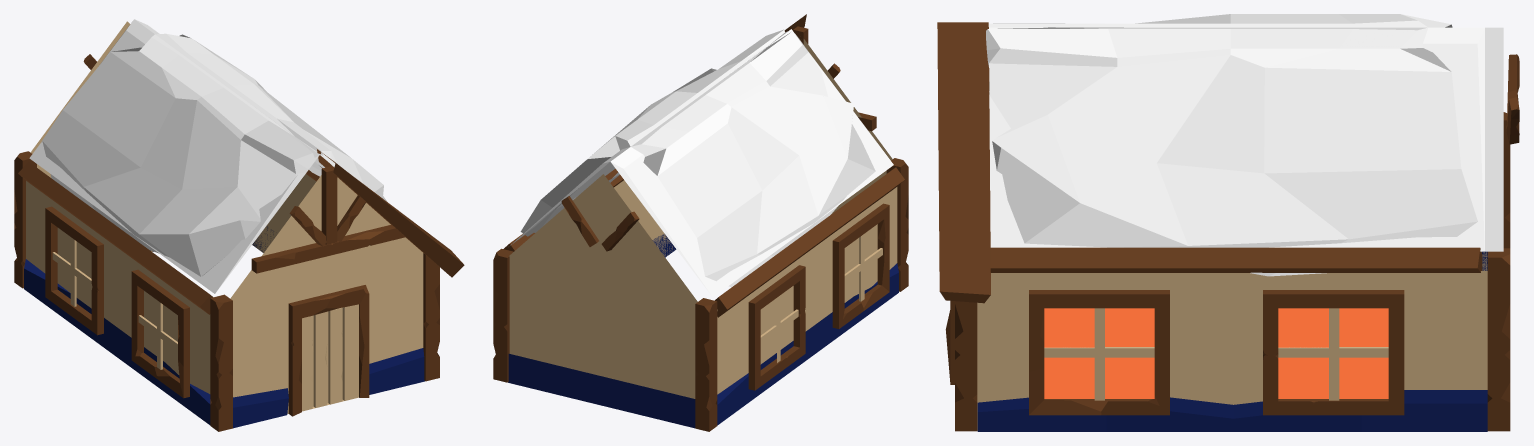
Rendered from House.glb.
3 renders of one model, left to right at view 1: azimuth 30°, elevation 25°; view 2: azimuth 150°, elevation 25°; view 3: azimuth 270°, elevation 25°, orthographic. The views are drawn at different scales.
Visible parts, largest first — view 1: Plane.013, Plane, Plane.012, Plane.022, Plane.006, Plane.019, Plane.010, Plane.005, Plane.002, Plane.001, Plane.004, Plane.024 (+2 smaller); view 2: Plane.013, Plane, Plane.012, Plane.022, Plane.019, Plane.010, Plane.024, Plane.018, Plane.002; view 3: Plane.013, Plane, Plane.008, Plane.007, Plane.001, Plane.012, Plane.010, Plane.019, Plane.011, Plane.009, Plane.004, Plane.018 (+1 smaller).
Part boxes in pixels (x1,y1,x2,y2): Plane.013: (29,19,387,293); Plane: (26,21,423,413); Plane.012: (24,226,424,428); Plane.022: (45,206,189,398); Plane.006: (302,304,358,411); Plane.019: (14,151,232,431); Plane.010: (18,162,322,314); Plane.005: (288,285,369,416); Plane.002: (251,166,405,273); Plane.001: (317,149,464,277); Plane.004: (423,253,439,381); Plane.024: (52,237,177,369); Plane.013: (510,29,893,297); Plane: (509,39,897,398); Plane.012: (508,234,898,428); Plane.022: (748,203,889,390); Plane.019: (493,158,908,431); Plane.010: (503,167,904,317); Plane.024: (760,234,882,362); Plane.018: (561,63,840,251); Plane.002: (793,26,876,131); Plane.013: (986,14,1484,276); Plane: (977,252,1487,430); Plane.008: (1044,308,1388,398); Plane.007: (1029,290,1404,415); Plane.001: (937,22,990,303); Plane.012: (977,251,1487,431); Plane.010: (990,247,1482,272); Plane.019: (1487,112,1510,431); Plane.011: (1485,27,1503,251); Plane.009: (1044,308,1388,400); Plane.004: (955,301,977,431); Plane.018: (1506,54,1519,144).
Size of the model in its own units: 5.16 by 4.83 by 7.55.
